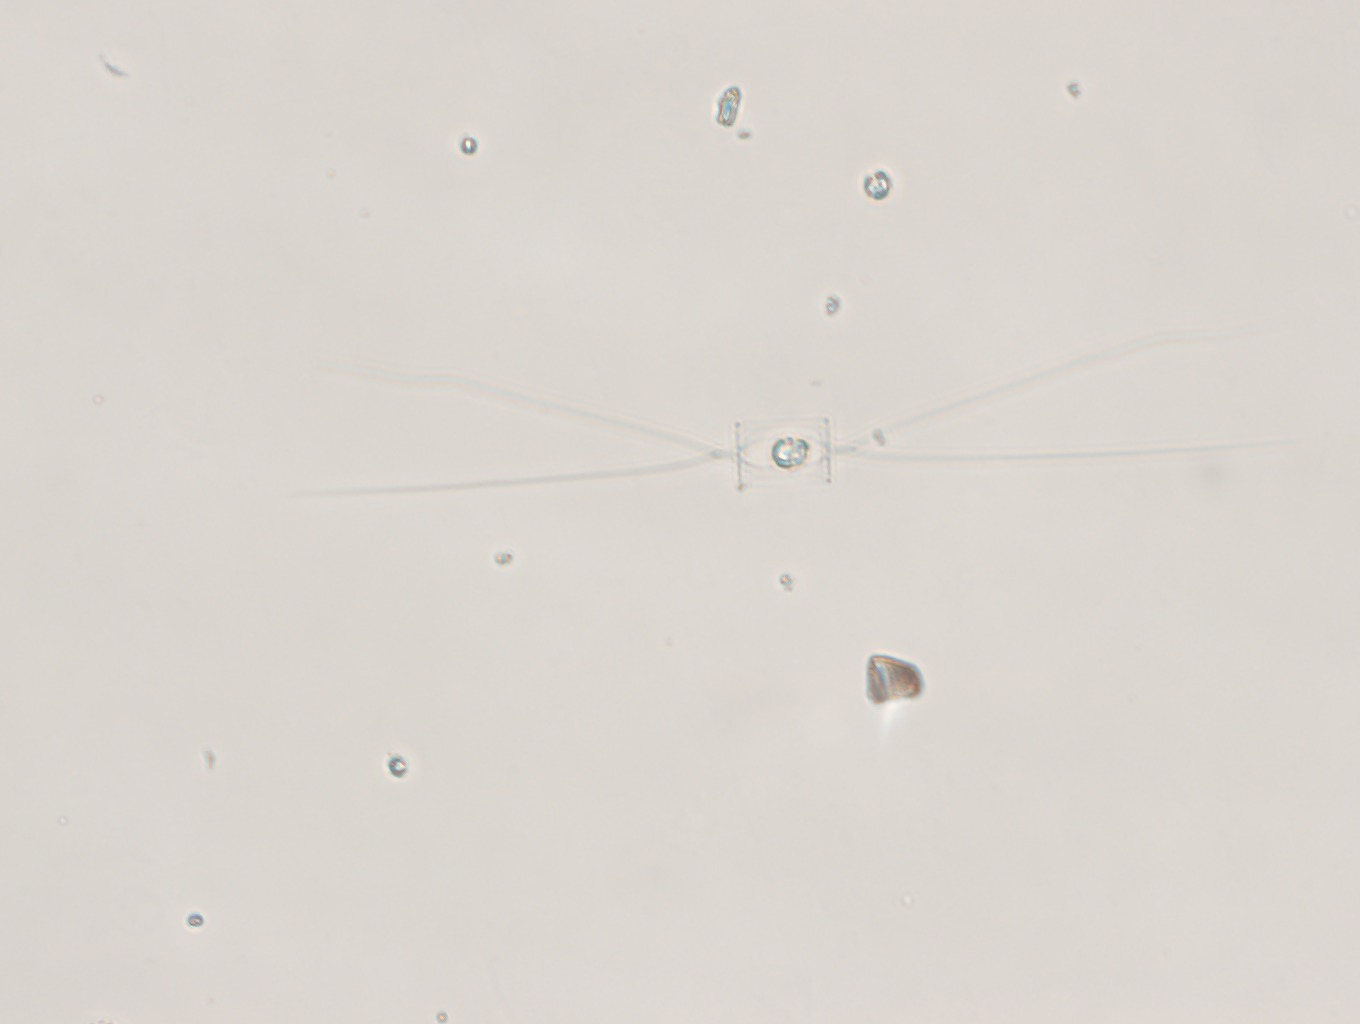chaetoceros: (312, 326, 1304, 496)
